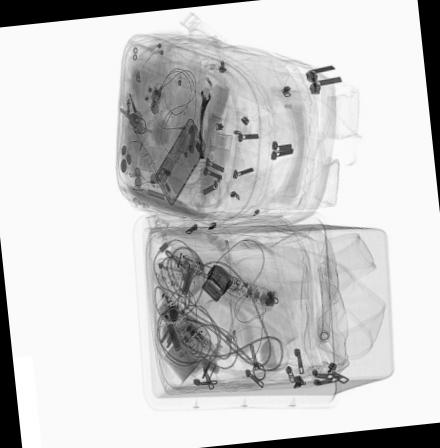Lighter: (165, 320, 184, 355)
